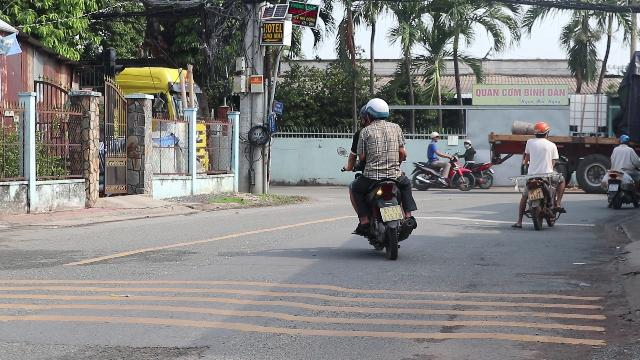helmet: (362, 97, 392, 123), (532, 121, 548, 137)
licenseplate: (380, 206, 404, 222), (527, 188, 543, 200)
motorcyclist: (345, 95, 419, 256), (513, 120, 567, 228)
